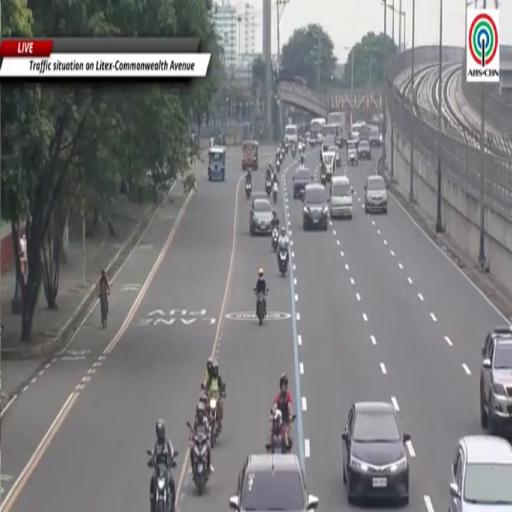bus: (328, 111, 347, 145), (310, 118, 326, 147)
car: (342, 403, 410, 504), (230, 454, 318, 511), (449, 436, 511, 511), (480, 326, 511, 434), (303, 184, 328, 230), (330, 176, 353, 218), (364, 175, 387, 214), (250, 198, 272, 235), (293, 168, 311, 198), (321, 152, 335, 184), (327, 146, 341, 167), (369, 125, 382, 147), (347, 140, 358, 165), (358, 140, 371, 159), (321, 135, 335, 151), (351, 131, 359, 145)
motorcycle: (147, 451, 175, 511), (266, 414, 296, 454), (192, 427, 209, 495), (209, 392, 225, 446), (254, 288, 268, 325), (278, 247, 288, 276), (271, 228, 278, 252), (320, 166, 326, 185), (265, 180, 272, 196), (273, 182, 278, 203), (245, 182, 251, 198), (281, 150, 287, 162), (276, 160, 281, 172), (292, 144, 296, 157), (285, 143, 288, 154)
truck: (327, 111, 348, 147)
